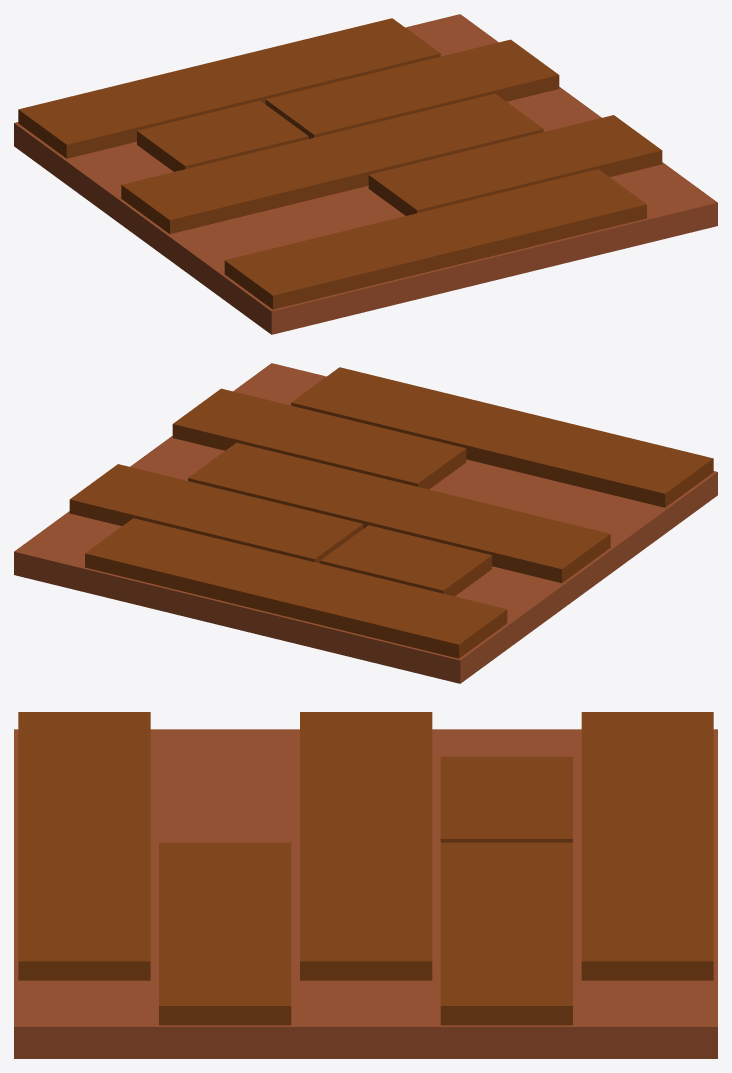
File: Prop_Tile_Terrain_Dungeon_Timber_Panel_06.FBX
The picture shows the model from 3 angles, top to bottom: view 1: azimuth 30°, elevation 25°; view 2: azimuth 150°, elevation 25°; view 3: azimuth 270°, elevation 25°; orthographic projection. The views are drawn at different scales.
Parts seen in each view (by area): view 1: Prop_Tile_Terrain_Dungeon_Timber_Panel_06; view 2: Prop_Tile_Terrain_Dungeon_Timber_Panel_06; view 3: Prop_Tile_Terrain_Dungeon_Timber_Panel_06.
Boxes of the visible parts, x1=… form: Prop_Tile_Terrain_Dungeon_Timber_Panel_06: x1=14, y1=14, x2=717, y2=334; Prop_Tile_Terrain_Dungeon_Timber_Panel_06: x1=14, y1=363, x2=717, y2=683; Prop_Tile_Terrain_Dungeon_Timber_Panel_06: x1=14, y1=712, x2=717, y2=1058.
Bounding box in the file's own units: 3000 × 240 × 3000.
